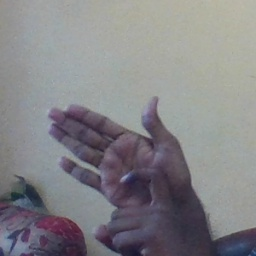R: (45, 92, 193, 249)
